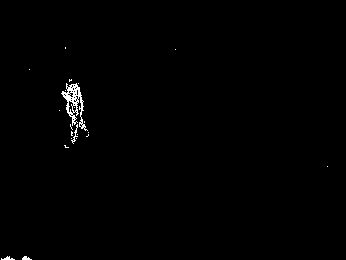person: (61, 79, 88, 149)
